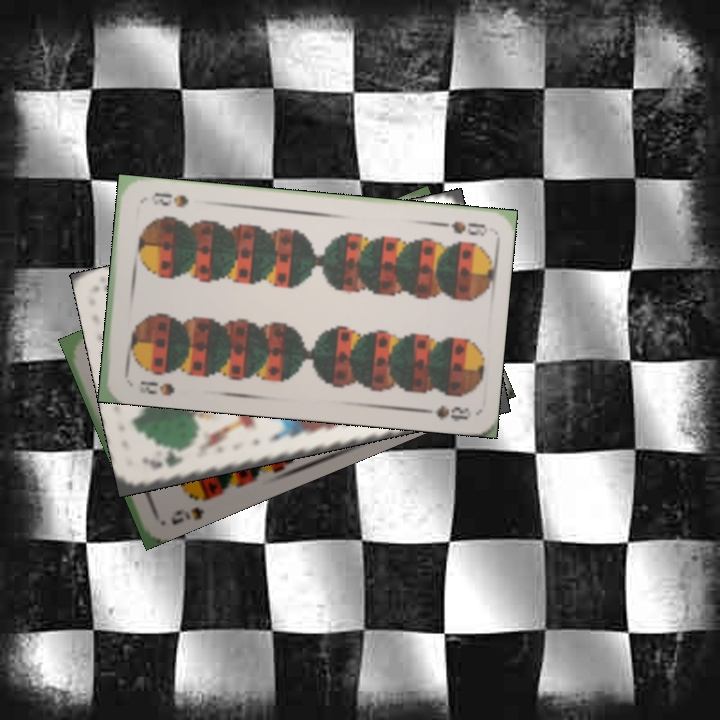GK: (146, 449, 186, 470)
S8: (430, 217, 489, 239), (136, 377, 177, 399)
S9: (166, 491, 215, 527)
